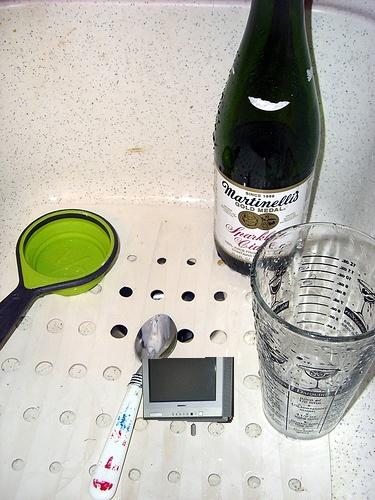tampered: (142, 358, 234, 436)
